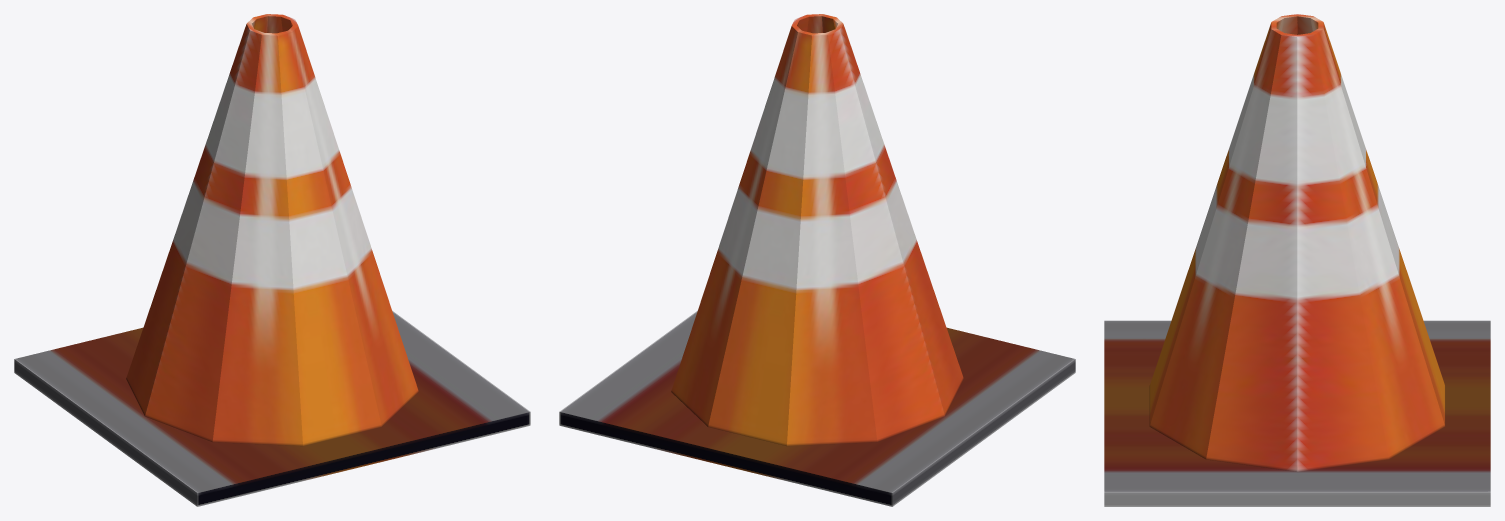
The model's file is trafficCone.fbx.
3 renders of one model, left to right at view 1: azimuth 30°, elevation 25°; view 2: azimuth 150°, elevation 25°; view 3: azimuth 270°, elevation 25°, orthographic. The views are drawn at different scales.
Visible parts, largest first — view 1: trafficCone; view 2: trafficCone; view 3: trafficCone.
Boxes of the visible parts, x1,y1,x2,y2 form: trafficCone: (14, 14, 530, 506); trafficCone: (559, 14, 1075, 506); trafficCone: (1104, 14, 1490, 506).
Bounding box in the file's own units: 0.8786 × 0.9442 × 0.8363.
